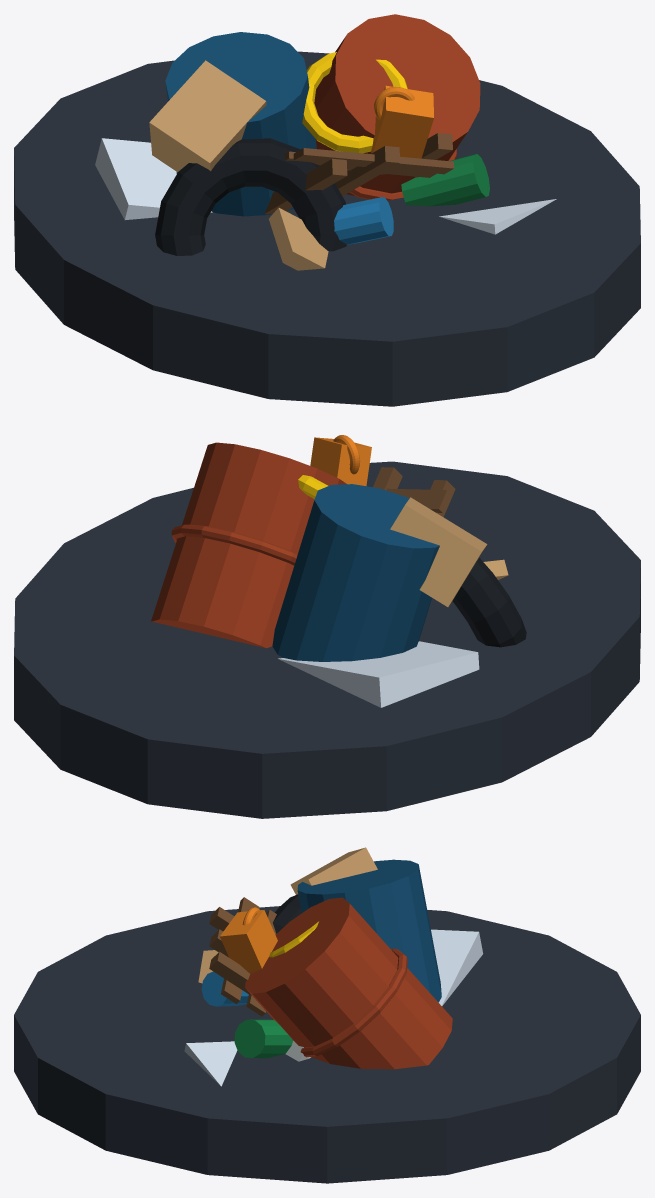
The model's file is litter_gate.glb.
3 renders of one model, top to bottom at view 1: azimuth 30°, elevation 25°; view 2: azimuth 150°, elevation 25°; view 3: azimuth 270°, elevation 25°, orthographic. The views are drawn at different scales.
Parts seen in each view (by area): view 1: litter_gate; view 2: litter_gate; view 3: litter_gate.
Boxes of the visible parts, bbox=[...] form: litter_gate: bbox=[14, 14, 640, 406]; litter_gate: bbox=[14, 435, 640, 818]; litter_gate: bbox=[14, 847, 640, 1183].
Size of the model in its own units: 2.97 by 1.24 by 3.51.
